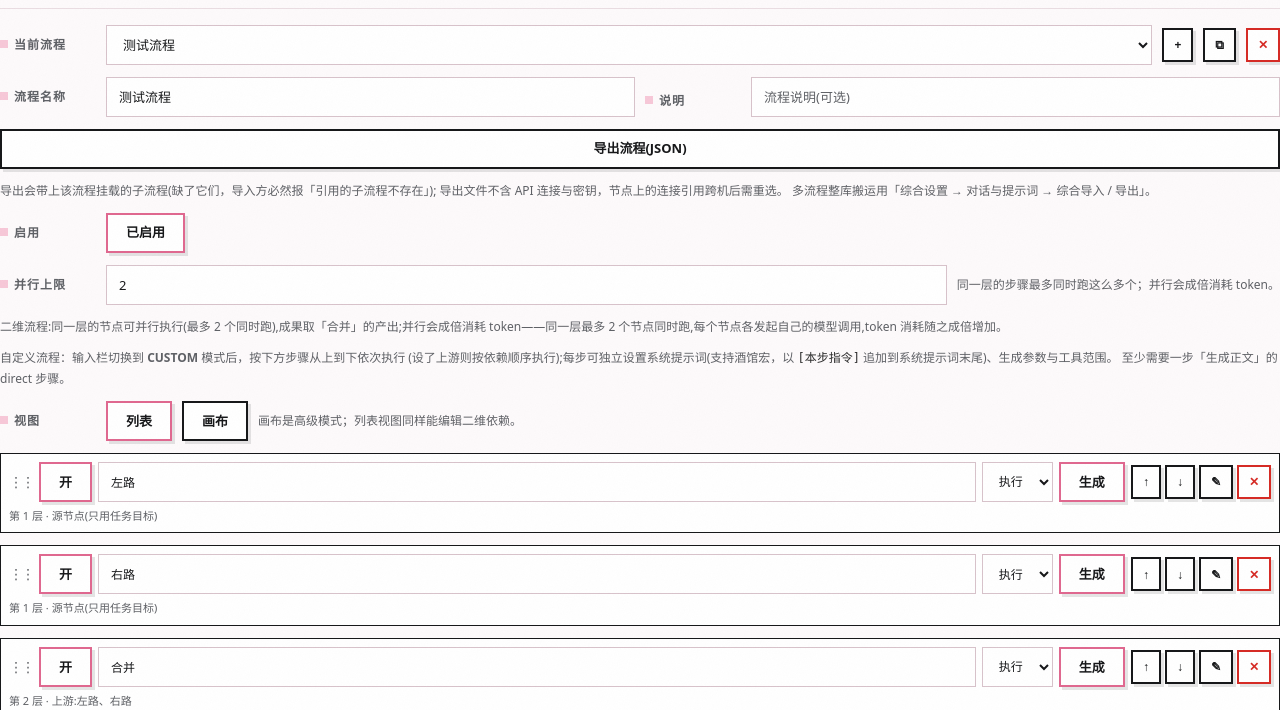
Test case: AgentFlowSection 列表编辑未因抽取共用组件而回归 › 档位选择:切到严格写回草稿并收起工具区,切回宽松恢复
The width and height of the screenshot is (1280, 710).
Click the 1st button titled "编辑详情".
click(1216, 482)  # box [1199,465,1233,499]
(page scrolled)
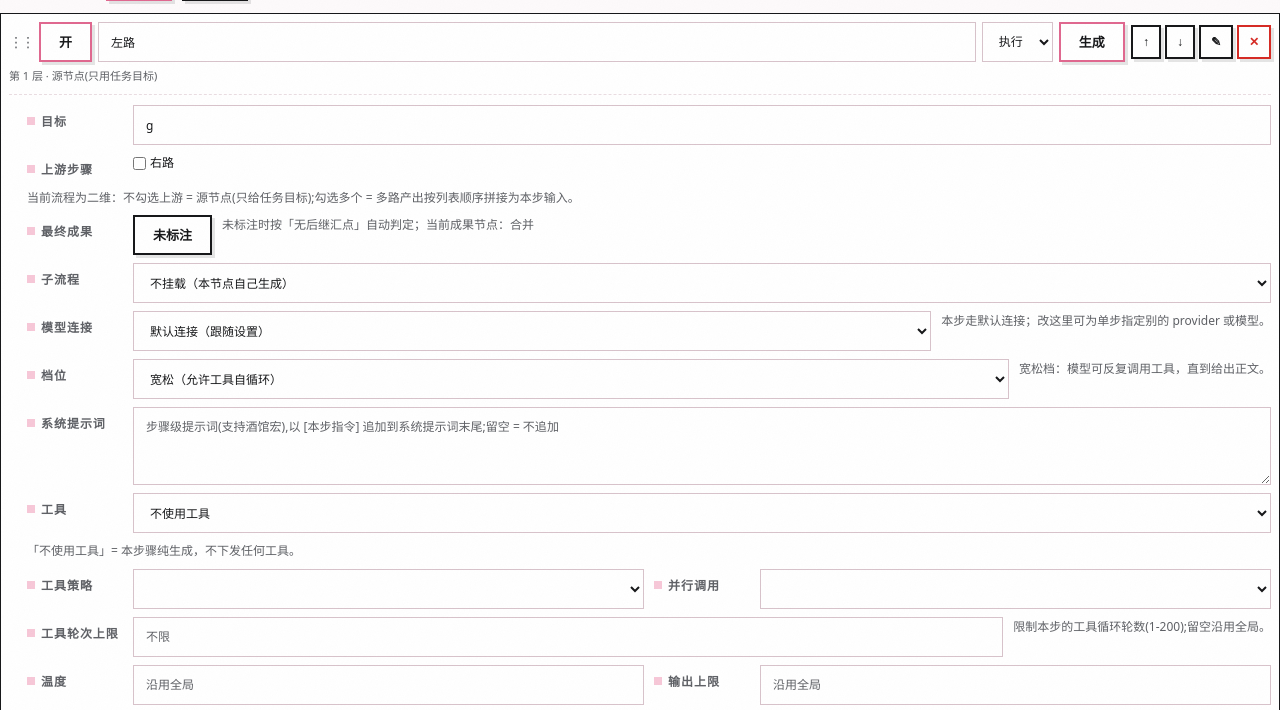
Expected: the element with class "flow-edit" shows "工具策略", [41,577,93,594]
Select "严格（单次调用，不下发工具）" in the dropdown named "严格 = 单次模型调用、不下发任何工具(适合压缩/抽取这类原子步骤);宽松 = 可与工具多轮循环" at (571,380), box [133,360,1009,400]
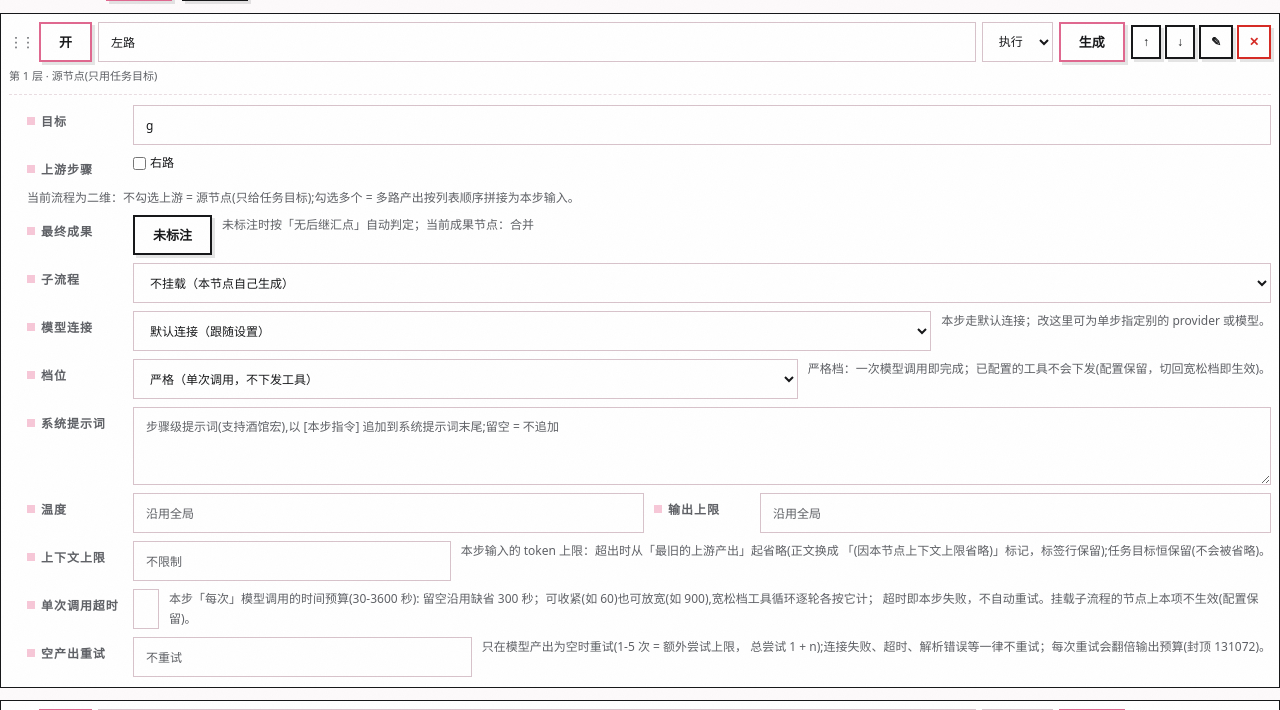
Expected: the label with class "flow-edit" no longer shows "工具策略"
Expected: the element with class "flow-edit" shows "严格档：一次模型调用即完成", [808,360,1271,378]
Select "宽松（允许工具自循环）" in the dropdown named "严格 = 单次模型调用、不下发任何工具(适合压缩/抽取这类原子步骤);宽松 = 可与工具多轮循环" at (465,380), box [133,360,798,400]
(page scrolled)
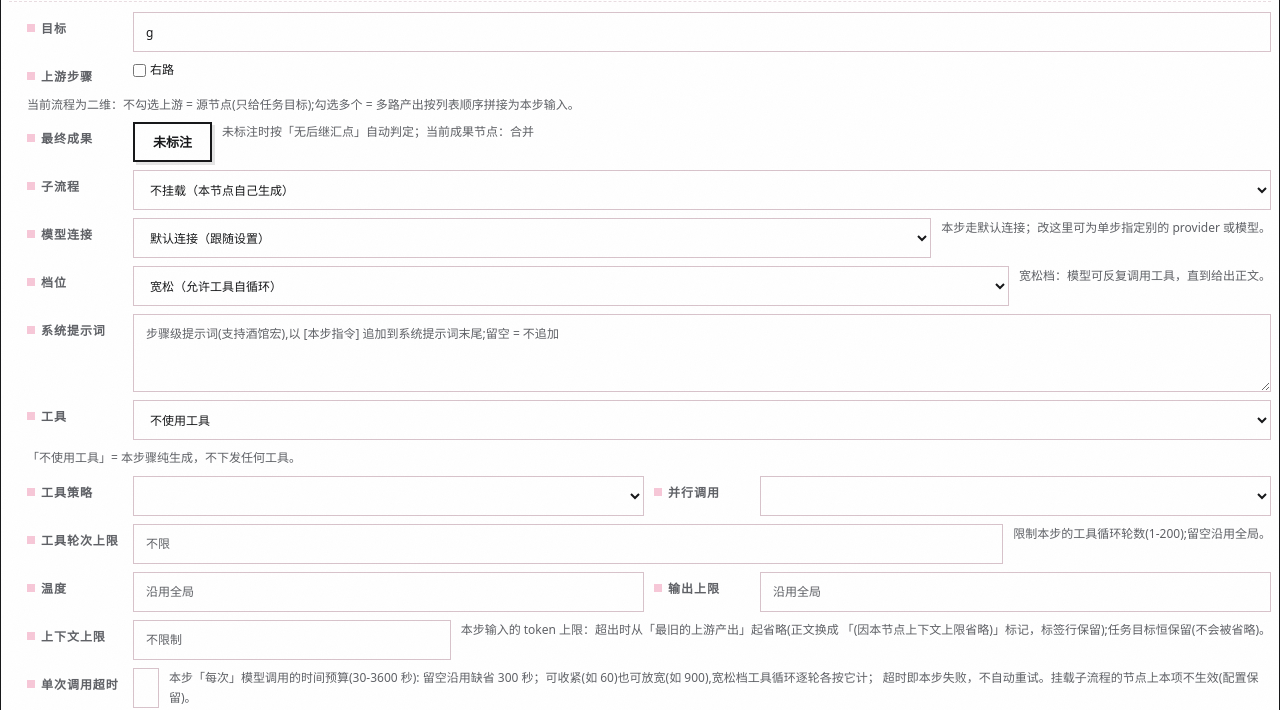
Expected: the element with class "flow-edit" shows "工具策略", [41,484,93,501]
